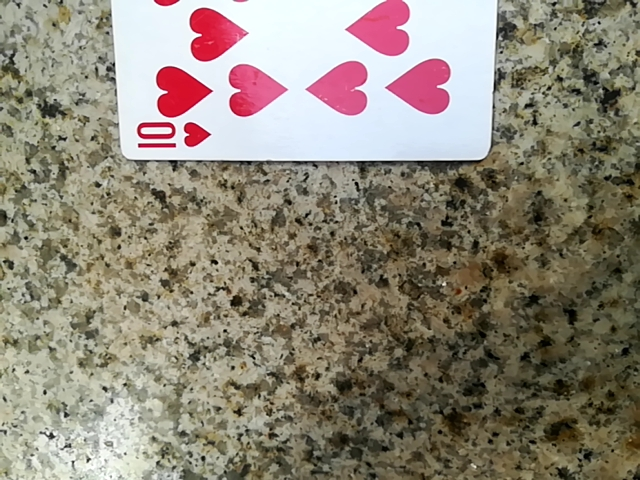hx 10: (96, 0, 499, 167)
